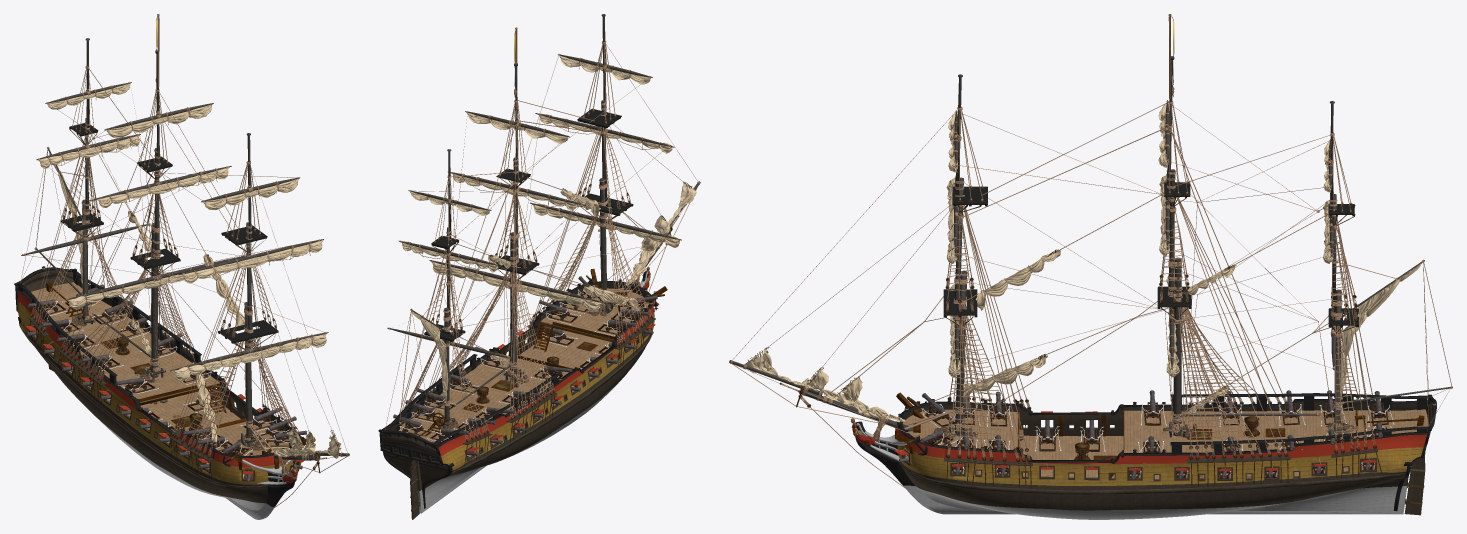
The model's file is aleksander_class_boat.glb.
3 renders of one model, left to right at view 1: azimuth 30°, elevation 25°; view 2: azimuth 150°, elevation 25°; view 3: azimuth 270°, elevation 25°, orthographic. The views are drawn at different scales.
Visible parts, largest first — view 1: Object_27, Object_33, Object_39, Object_21, Object_38, Object_22, Object_24, Object_19, Object_8, Object_23, Object_11, Object_41 (+4 smaller); view 2: Object_27, Object_33, Object_39, Object_38, Object_21, Object_22, Object_24, Object_8, Object_19, Object_11, Object_41, Object_23 (+5 smaller); view 3: Object_27, Object_38, Object_21, Object_22, Object_33, Object_39, Object_24, Object_25, Object_23, Object_19, Object_11, Object_8 (+3 smaller).
Part boxes in pixels (box(x1,y1,x2,y2)): Object_27: box(20, 16, 348, 509); Object_33: box(38, 83, 340, 458); Object_39: box(21, 38, 349, 460); Object_21: box(31, 14, 288, 478); Object_38: box(21, 270, 301, 503); Object_22: box(14, 123, 301, 506); Object_24: box(17, 302, 301, 484); Object_19: box(28, 84, 325, 480); Object_8: box(26, 284, 306, 468); Object_23: box(17, 290, 304, 474); Object_11: box(42, 302, 289, 455); Object_41: box(46, 282, 315, 469); Object_27: box(385, 29, 700, 467); Object_33: box(402, 55, 696, 400); Object_39: box(387, 14, 700, 426); Object_38: box(382, 283, 655, 519); Object_21: box(398, 27, 649, 456); Object_22: box(378, 108, 653, 508); Object_24: box(441, 311, 654, 470); Object_8: box(393, 276, 657, 456); Object_19: box(399, 56, 678, 511); Object_11: box(402, 285, 644, 458); Object_41: box(418, 269, 667, 436); Object_23: box(438, 300, 659, 456); Object_27: box(730, 16, 1452, 502); Object_38: box(900, 399, 1432, 515); Object_21: box(902, 14, 1428, 484); Object_22: box(855, 182, 1436, 511); Object_33: box(745, 103, 1421, 422); Object_39: box(729, 56, 1452, 437); Object_24: box(896, 435, 1423, 485); Object_25: box(856, 423, 1407, 519); Object_23: box(894, 411, 1426, 471); Object_19: box(796, 105, 1425, 504); Object_11: box(925, 402, 1388, 478); Object_8: box(920, 390, 1382, 479).
Bounding box in the file's own units: 18.53 × 42.13 × 55.23.
35 materials, 31 textured.
